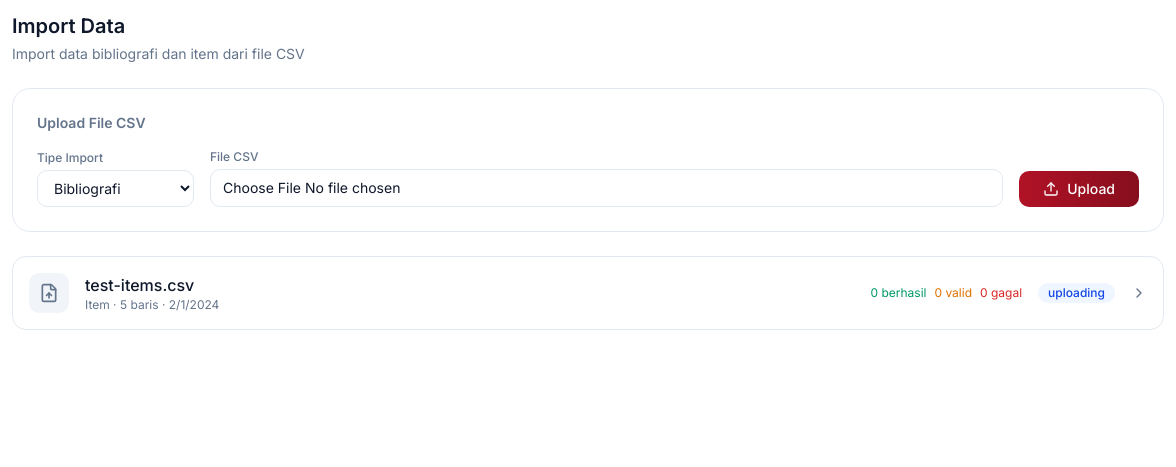
ImportSection Batch Detail › should show parse button for uploading status
Click the text "test-items.csv": (140, 285) [85,275,194,295]
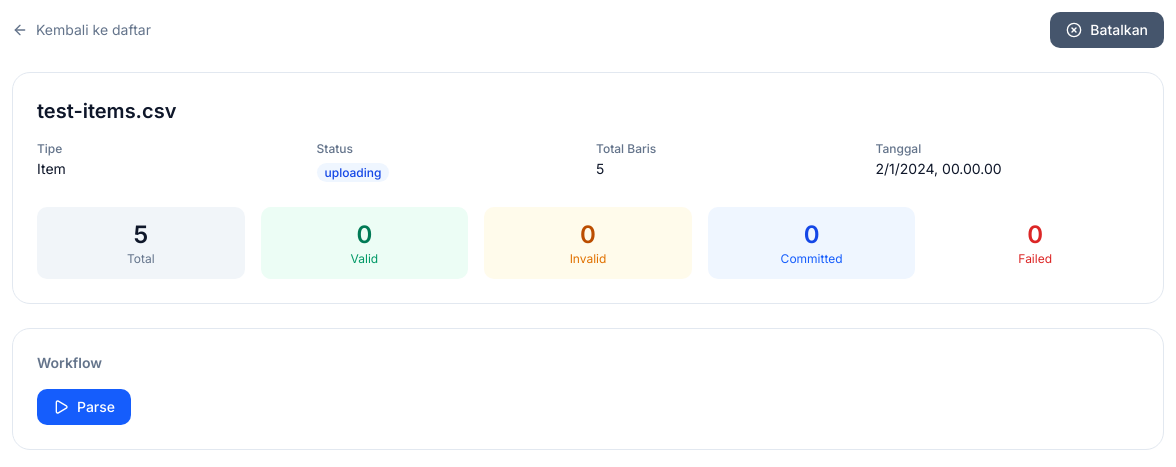
Result: the button "Parse" is shown at [37,389,131,425]
